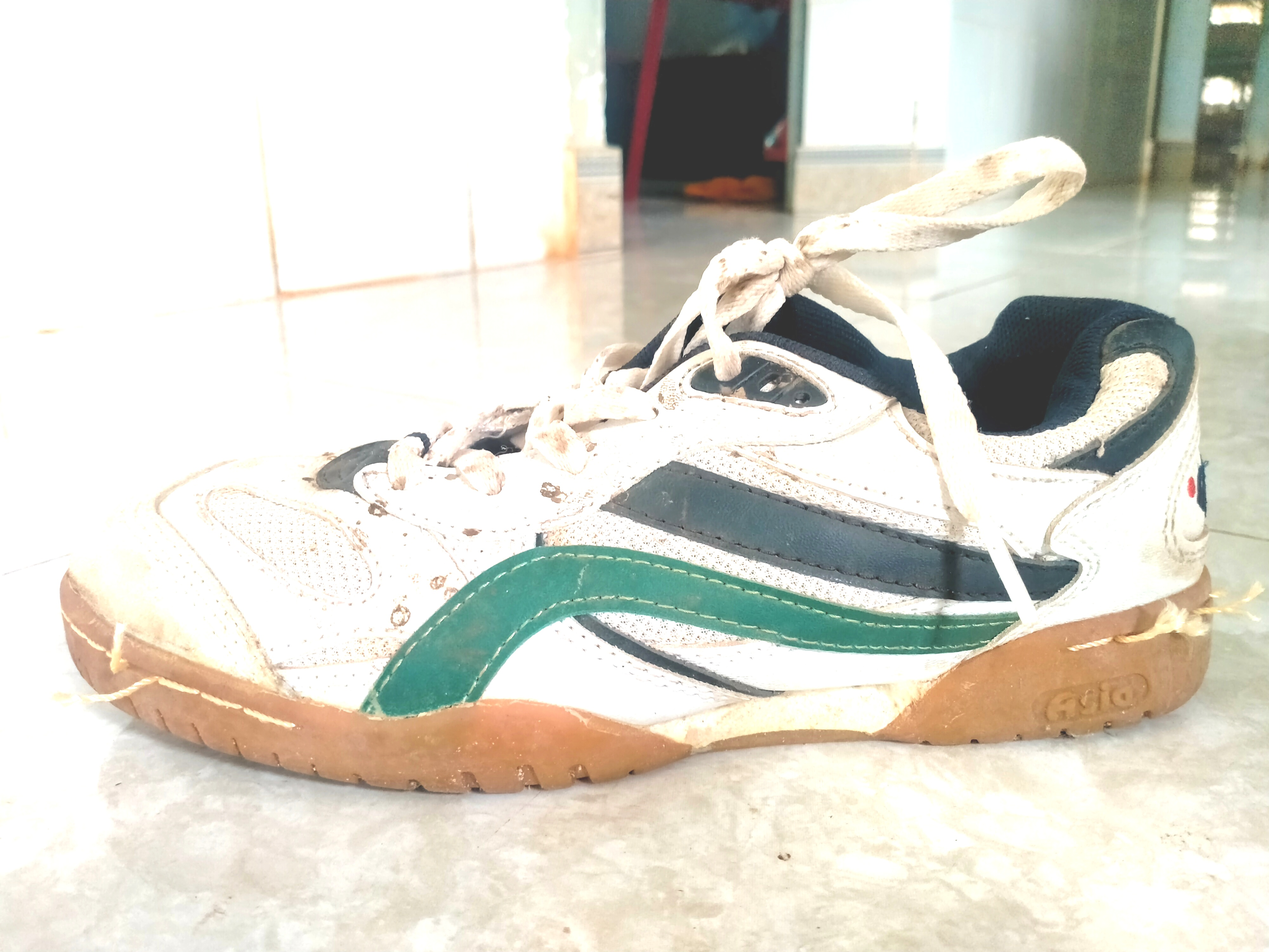broken: (1130, 590, 1218, 645), (101, 649, 172, 689)
